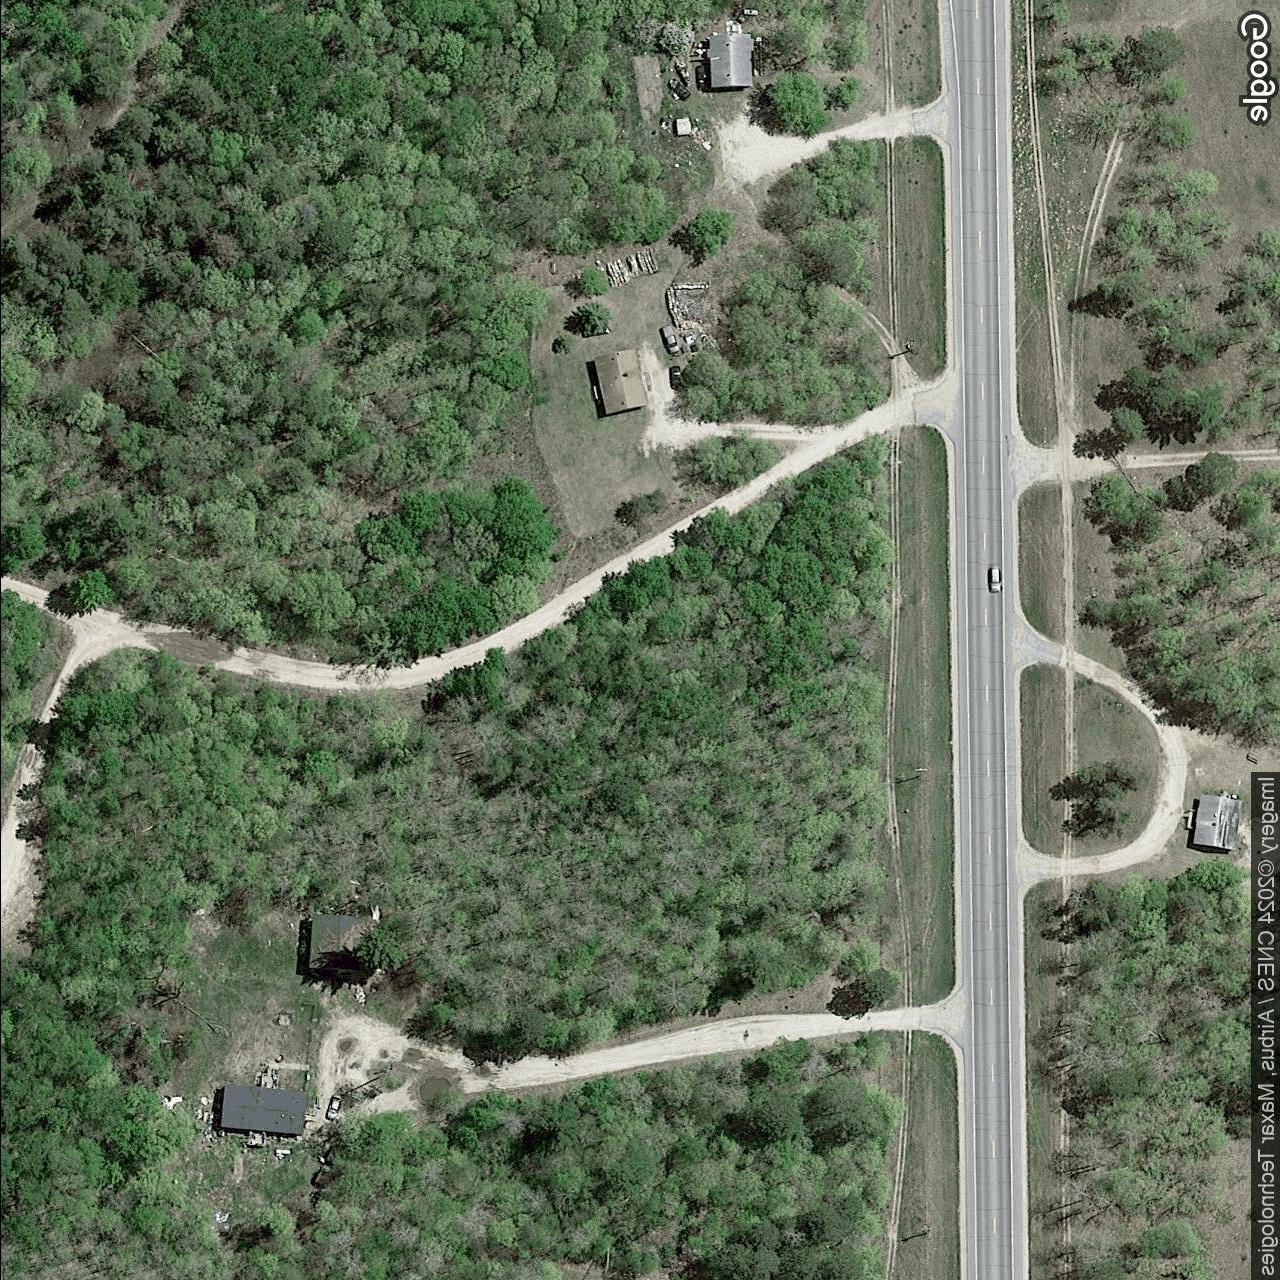Garage: (306, 912, 372, 975)
House: (218, 1083, 309, 1136), (591, 347, 648, 417), (1190, 791, 1244, 852), (708, 32, 753, 89)
Propane: (271, 1148, 293, 1157), (588, 383, 600, 401), (740, 7, 758, 16)
